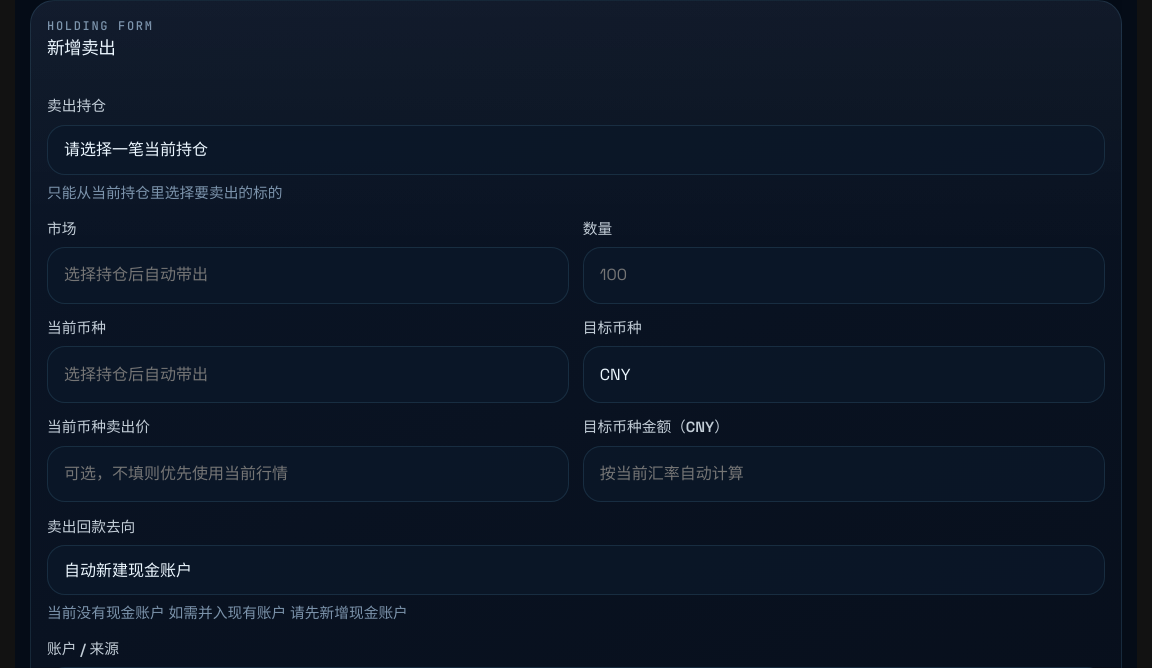
Test case: HoldingForm sell proceeds handling › clamps sell quantity to the available holding quantity while typing
Select "Apple (AAPL) · 3" in the dropdown labelled "卖出持仓" at (576,150), box [47, 125, 1105, 175]
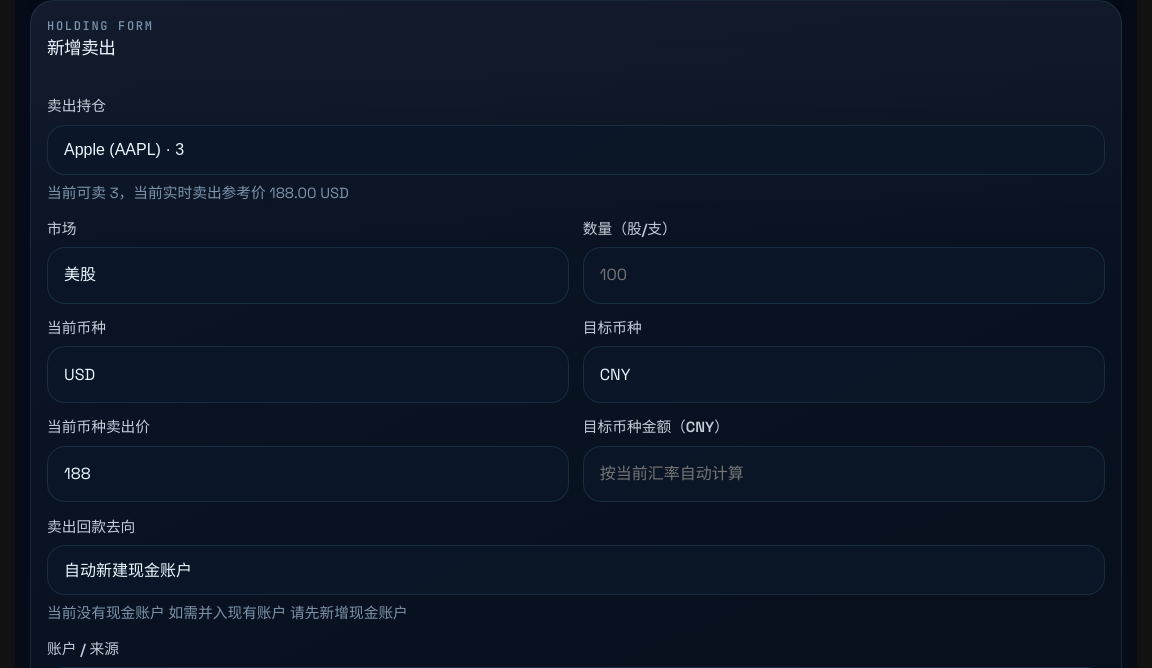
Type "5" into the number field labelled "数量（股/支）" at (844,275), box [583, 247, 1105, 304]
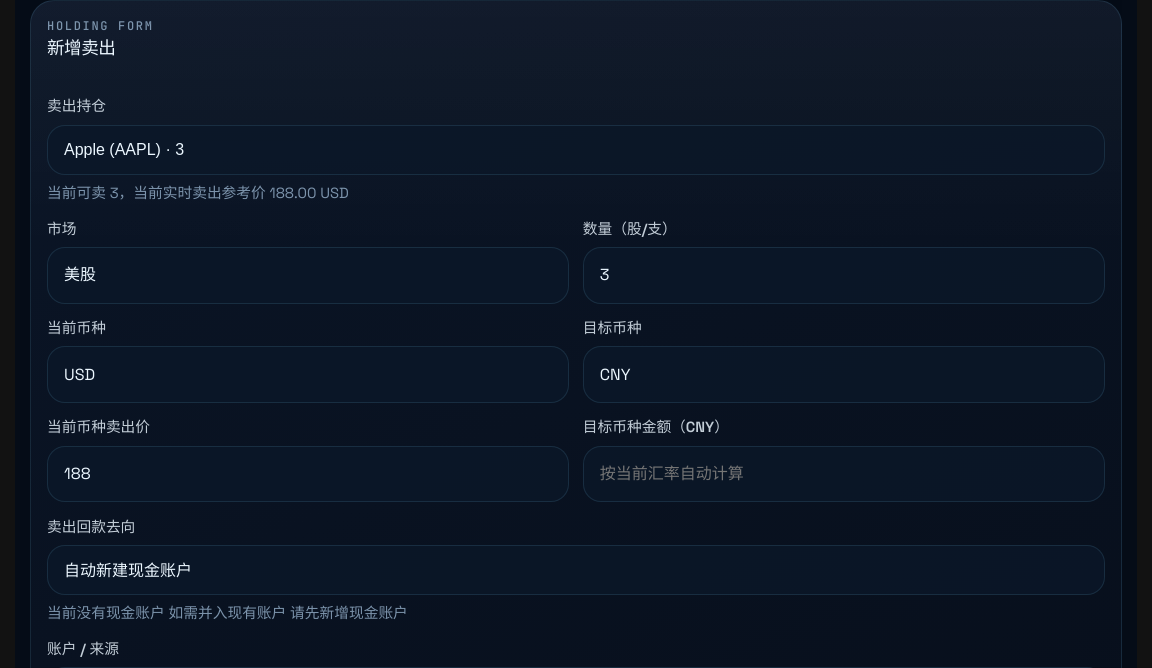
Result: the number field labelled "数量（股/支）" holds "3" at [583, 247, 1105, 304]
